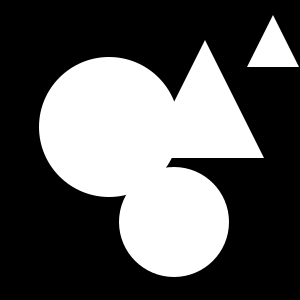rectangle: (39, 57, 179, 197), (119, 167, 229, 277)
triangle: (146, 40, 264, 158), (247, 15, 299, 67)
